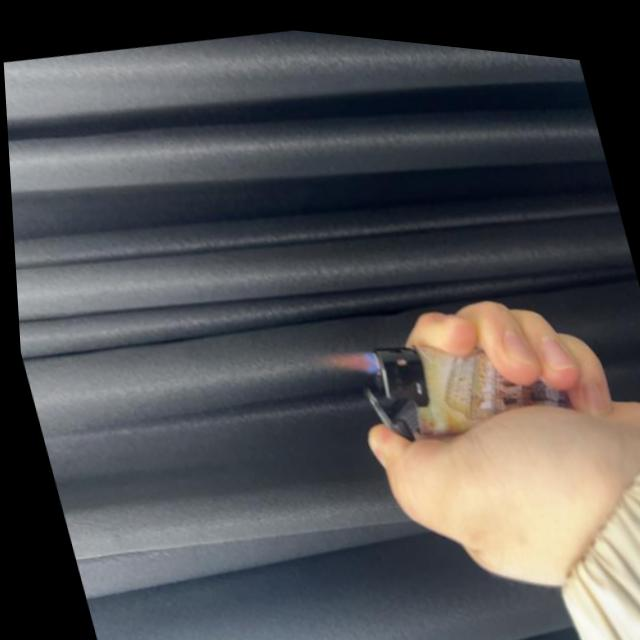Fire: (303, 331, 378, 380)
